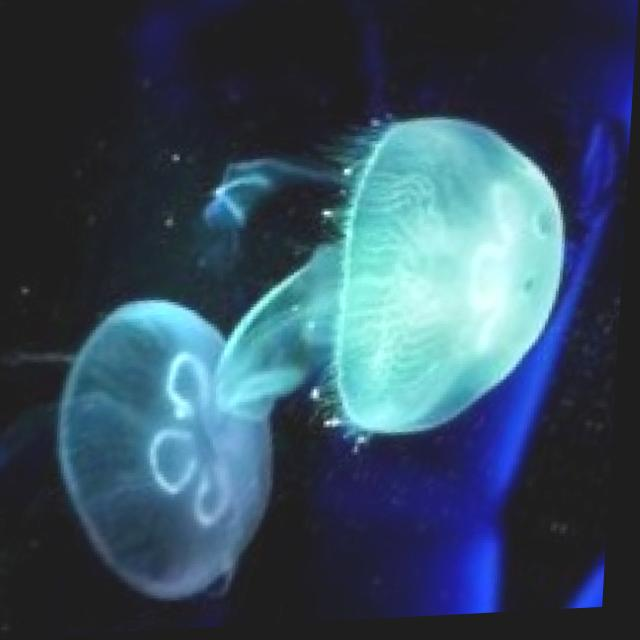Moon-jellyfish: (211, 91, 596, 464), (25, 289, 296, 612)
